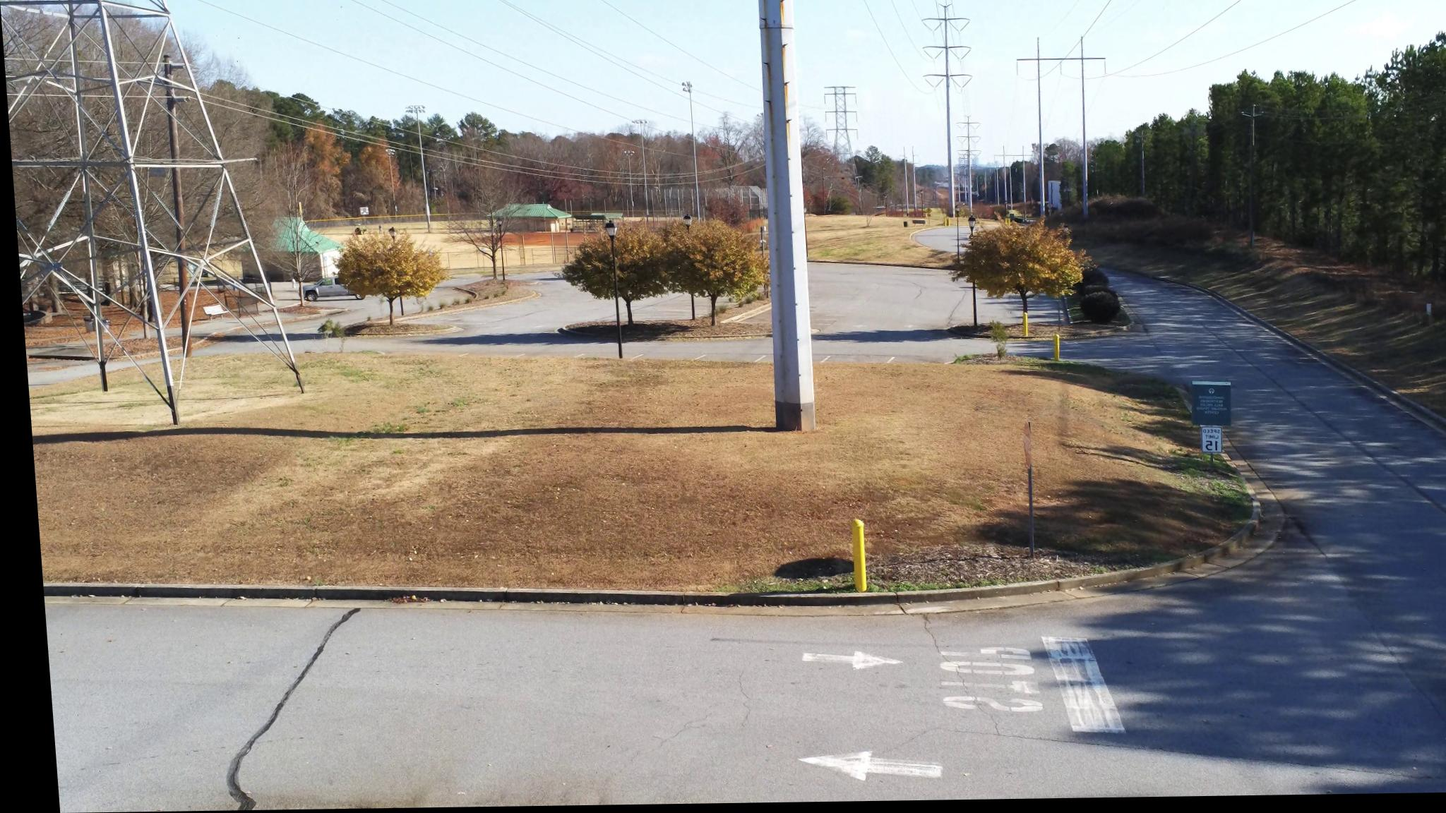tower: (64, 138, 841, 425)
